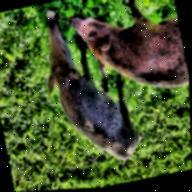boar: (18, 15, 154, 189), (67, 0, 190, 113)
